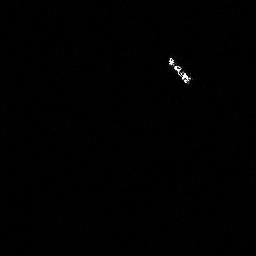ship: (168, 56, 191, 84)
